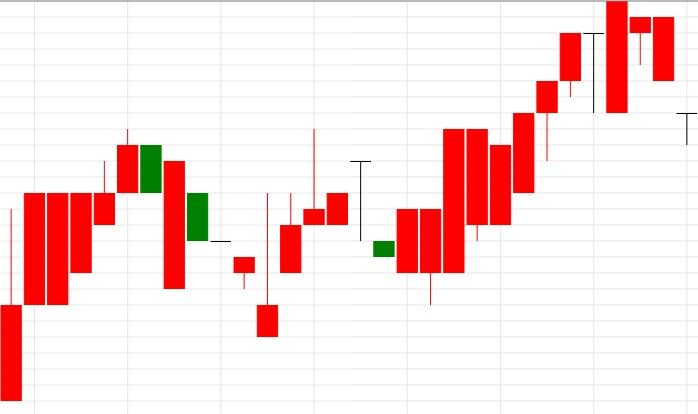hanging_man_fall: (419, 0, 652, 305)
inverse_hammer_rise: (116, 128, 279, 338)
shooting_star_fall: (257, 129, 326, 338)
